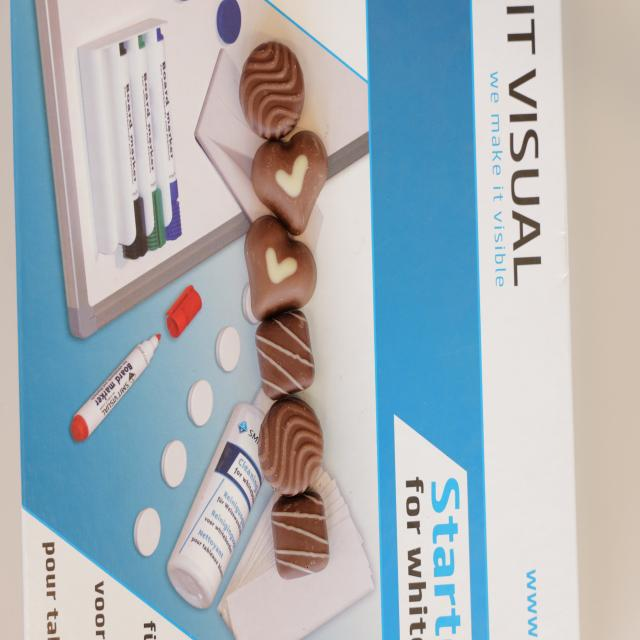Noir_authentique: (240, 40, 306, 140), (258, 396, 324, 496)
Passion_au_lait: (251, 130, 328, 236), (245, 216, 317, 321)
Stracciatella: (271, 491, 330, 579), (254, 316, 316, 396)
